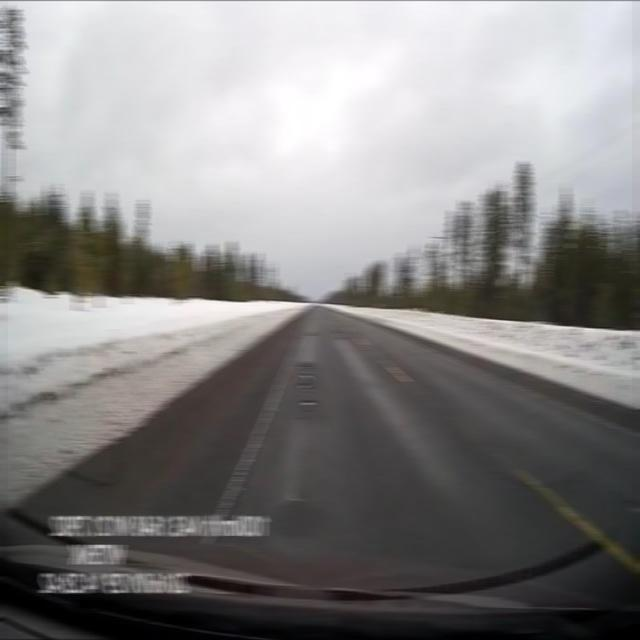Pothole: (298, 398, 320, 409), (295, 382, 316, 391), (296, 370, 316, 379), (298, 360, 311, 370)
